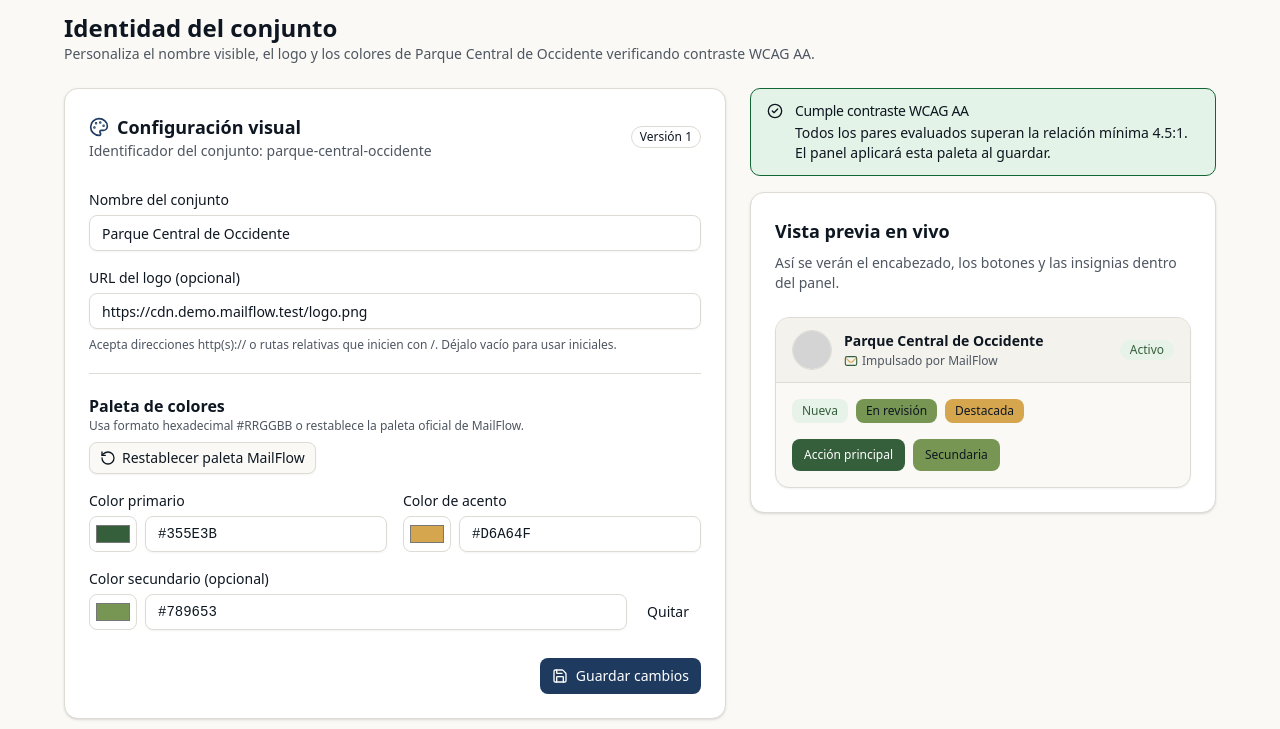
Scenario: IdentidadPage › ante conflicto 409 muestra AvisoConflicto y al recargar refresca versión y valores
Replace the text in the field labelled "Nombre del conjunto" with "Mi Cambio Tardío" at (395, 233), box [89,215,701,251]
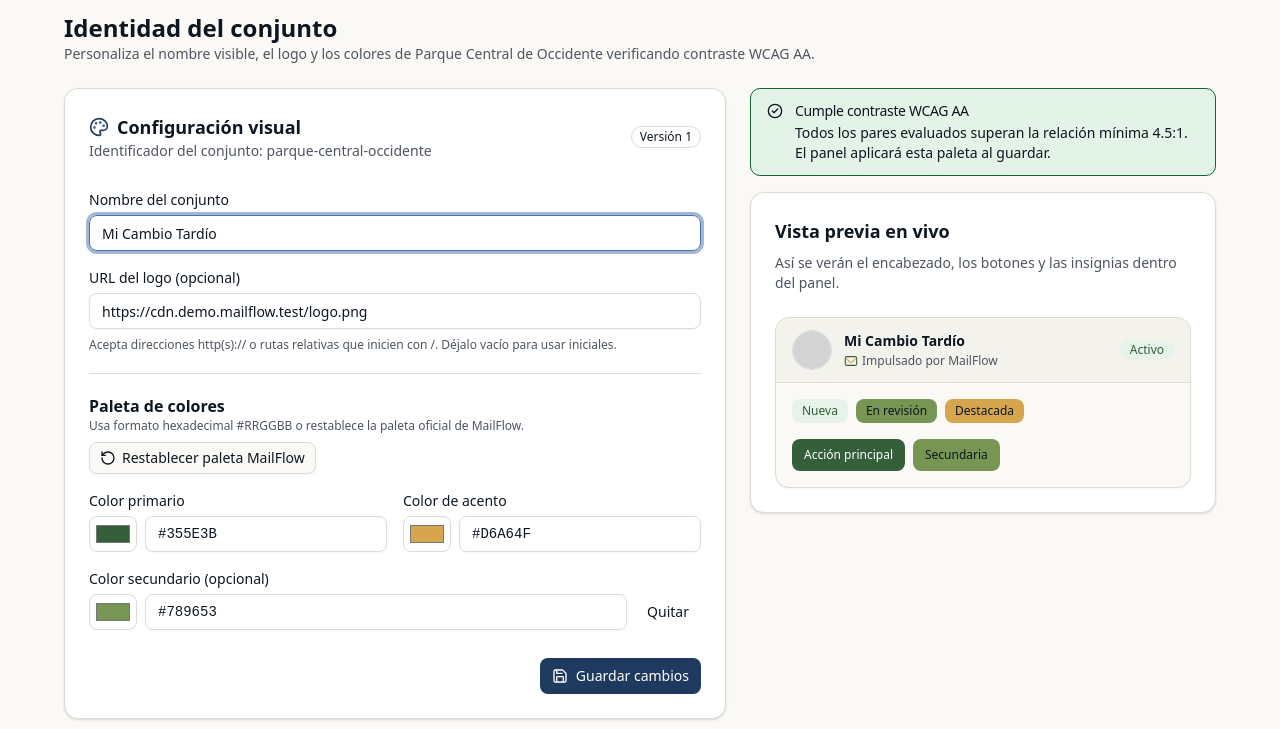
Click the button "Guardar cambios" at (620, 676), box [540,658,701,694]
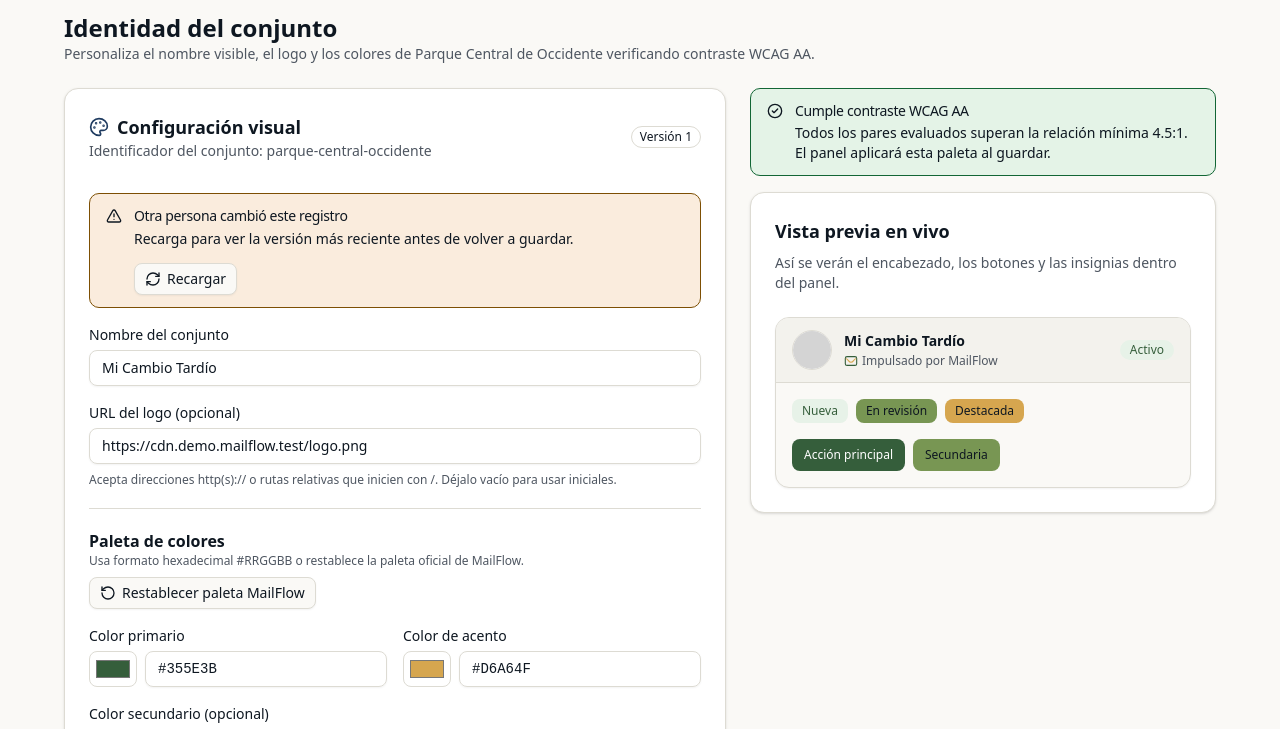
Expected: the text "Otra persona cambió este registro" is shown, [134,206,348,225]
Click the button "Recargar" at (186, 279), box [134,263,237,295]
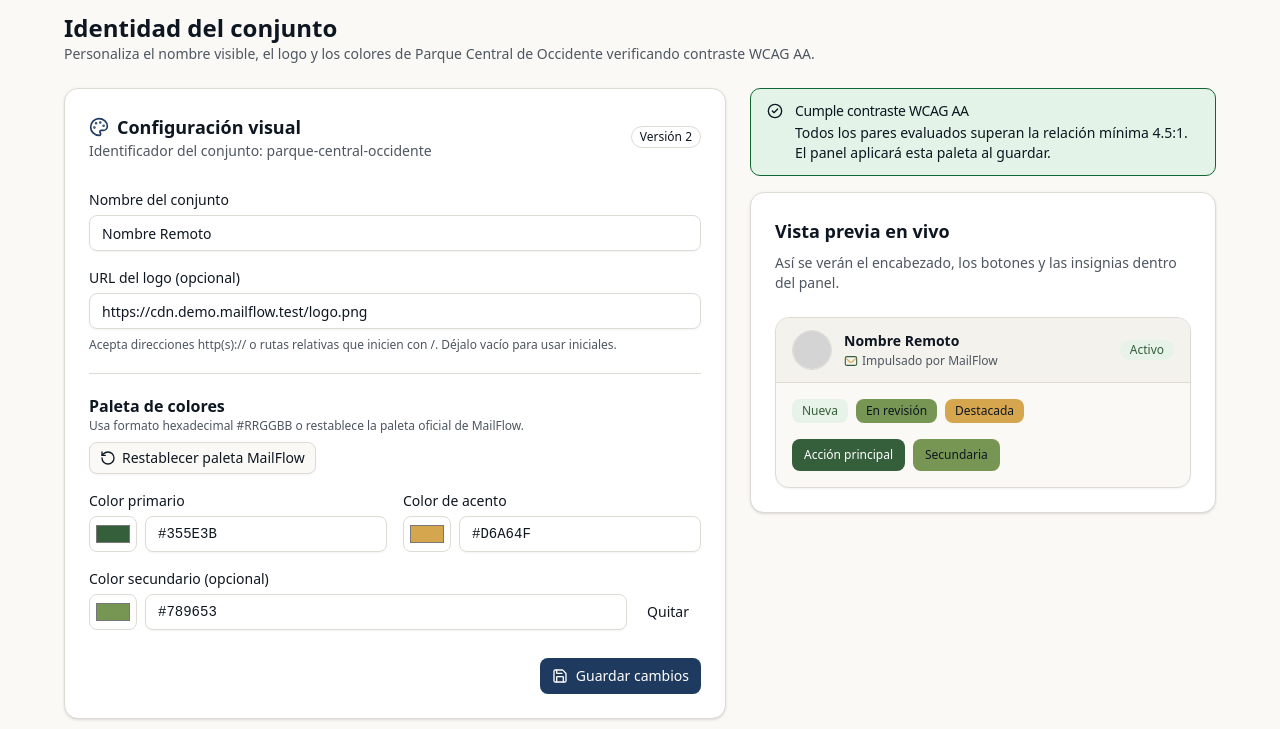
Expected: the field labelled "Nombre del conjunto" holds "Nombre Remoto"
Note: Ahora sí puede guardar con la nueva versión (2)
Replace the text in the field labelled "Nombre del conjunto" with "Mi Cambio Válido" at (395, 233), box [89,215,701,251]
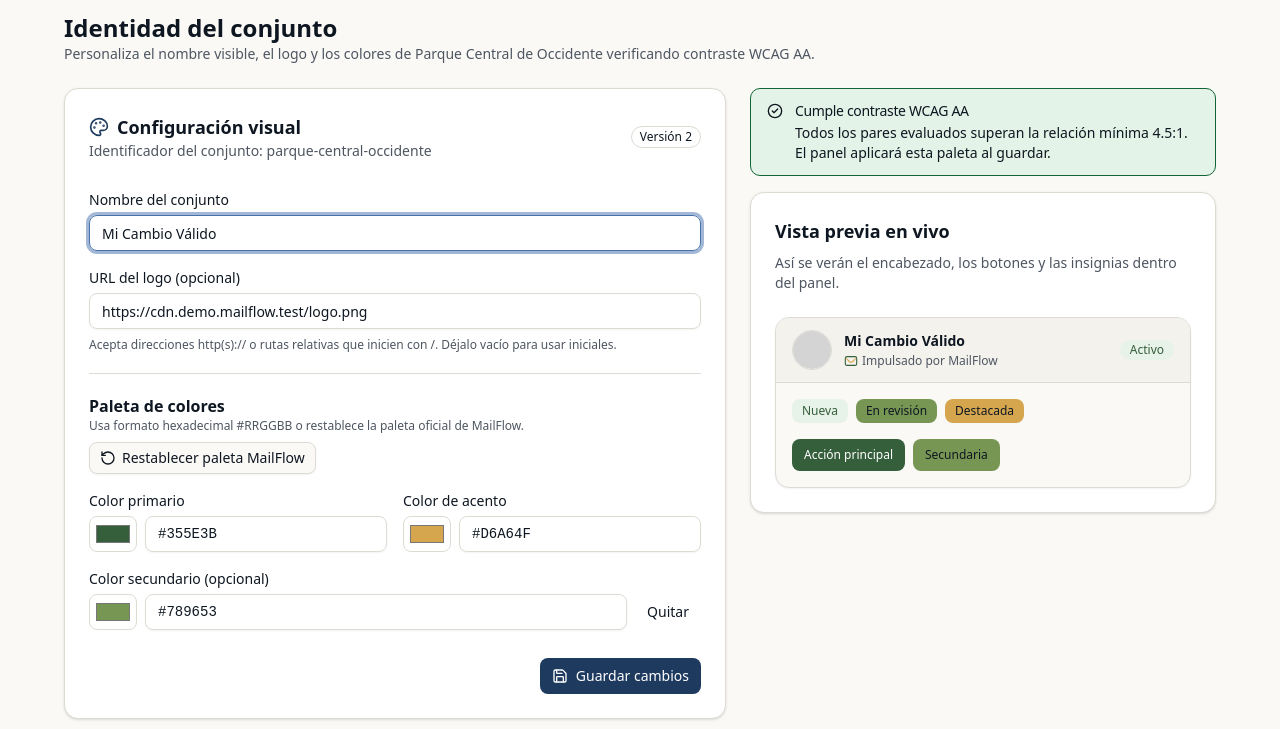
Click the button "Guardar cambios" at (620, 676), box [540,658,701,694]
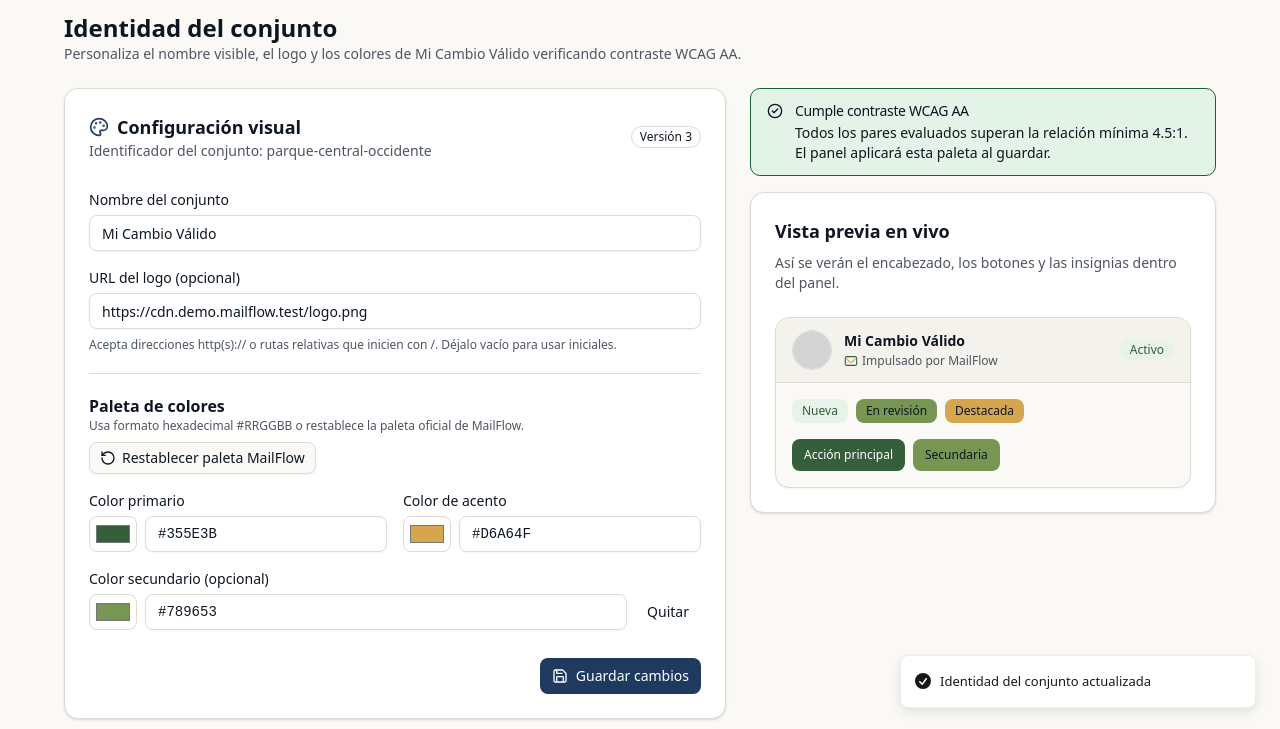
Expected: the text "Identidad del conjunto actualizada" is shown, [940,672,1151,691]
